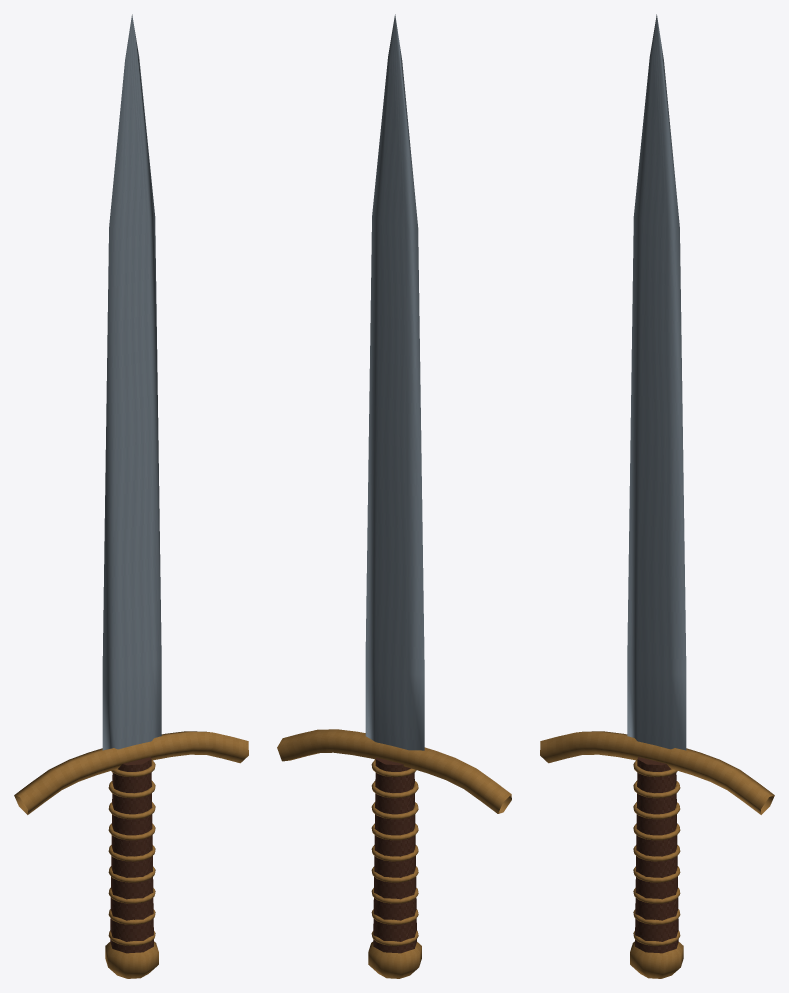
File: longsword.lod2.glb
3 views of the same model, side by side, from view 1: azimuth 30°, elevation 25°; view 2: azimuth 150°, elevation 25°; view 3: azimuth 330°, elevation 25° (orthographic).
Visible parts, largest first — view 1: blade, leather.0, brass.11, brass.10; view 2: blade, leather.0, brass.11, brass.10; view 3: blade, leather.0, brass.11, brass.10.
Part boxes in pixels (box(x1,y1,x2,y2)): blade: box(102, 14, 161, 750); leather.0: box(110, 757, 153, 953); brass.11: box(14, 731, 248, 814); brass.10: box(105, 941, 158, 978); blade: box(365, 14, 424, 750); leather.0: box(373, 757, 416, 953); brass.11: box(277, 729, 511, 813); brass.10: box(368, 941, 421, 978); blade: box(627, 14, 686, 750); leather.0: box(635, 757, 678, 953); brass.11: box(540, 731, 774, 814); brass.10: box(630, 941, 683, 978).
Bounding box in the file's own units: 0.2902 × 1.16 × 0.0609.
3 materials, 3 textured.
